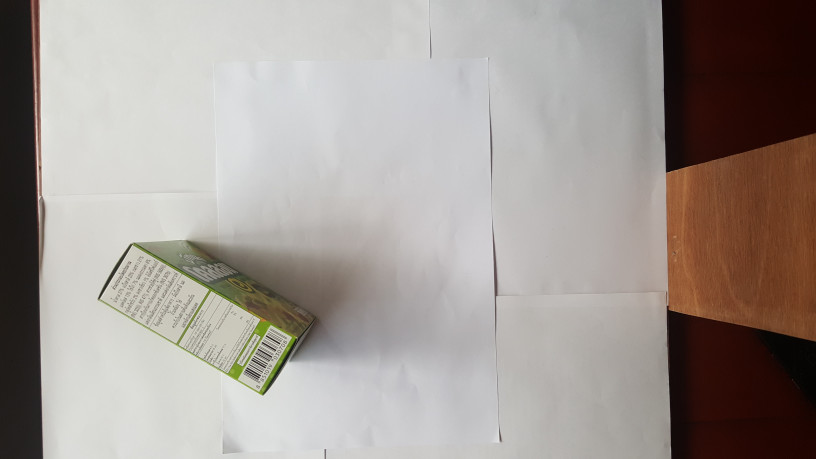collon-matcha: (95, 238, 318, 395)
